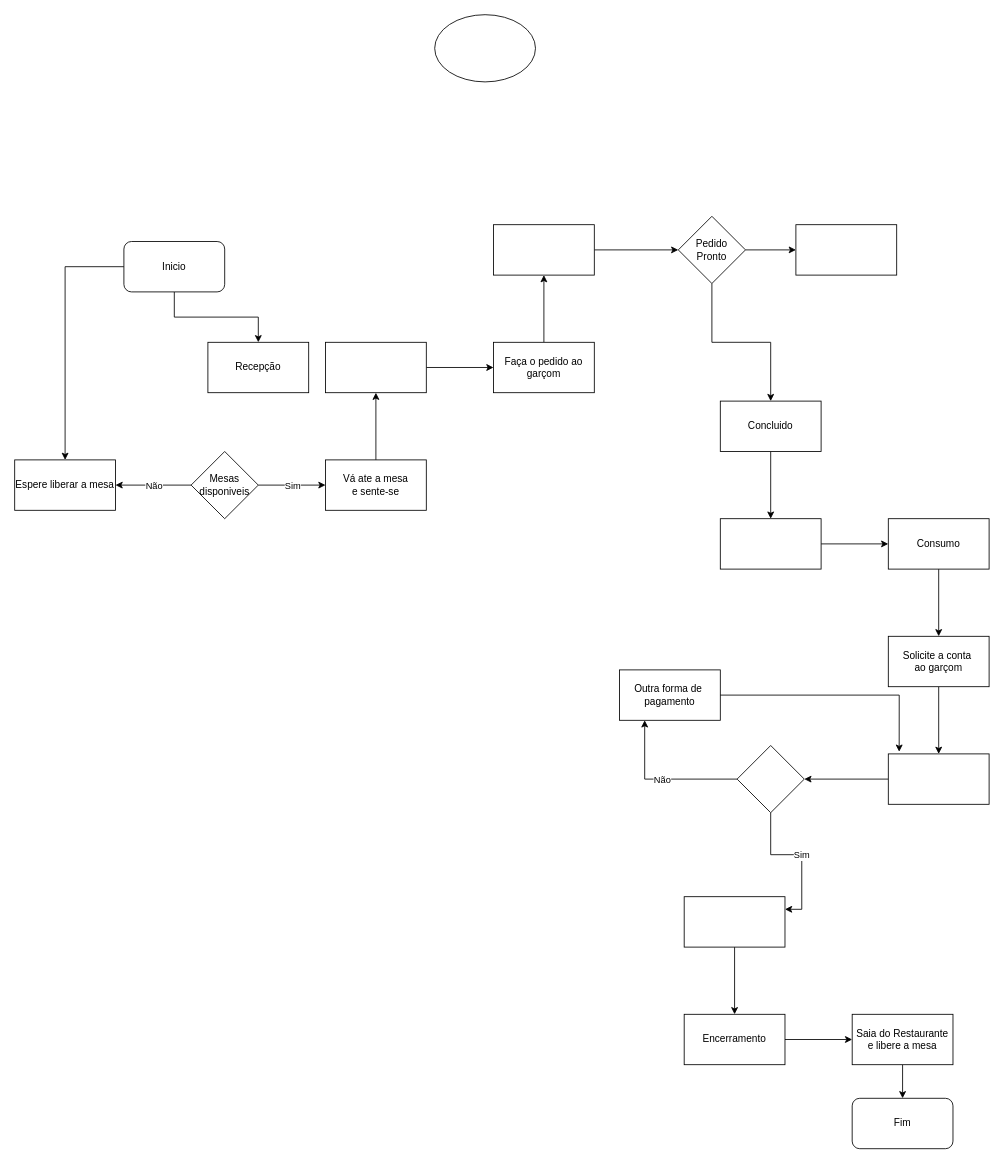
The diagram is 1004 pixels wide and 1163 high, and some of its shapes have lost their labels. The box of each missing label's shape, as (x1, y1, x2, y2) in pixels:
Aguarde: (795, 224, 897, 275)
Entrega: (719, 518, 821, 569)
pagamento aprovado: (736, 745, 804, 813)
Preparação do pedido: (493, 224, 594, 275)
Realize o pagamento: (887, 753, 989, 804)
Receba o Comprovante: (683, 896, 785, 947)
Veja menu disponivel: (325, 341, 426, 393)
